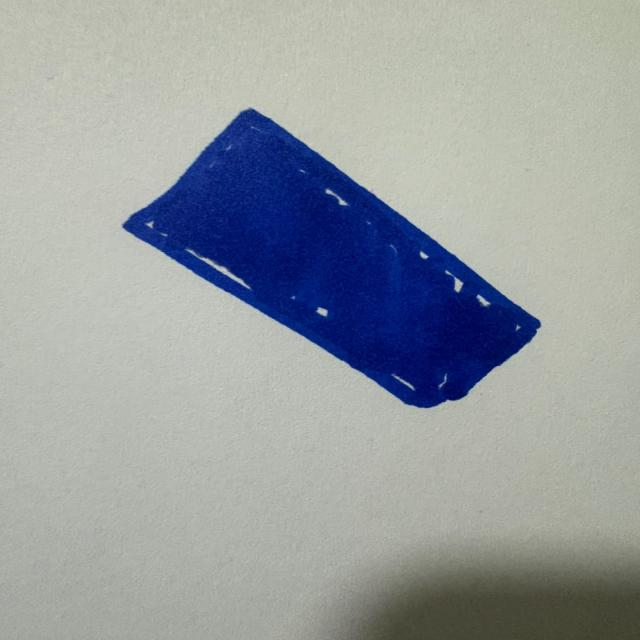Rectangle: (122, 109, 546, 409)
